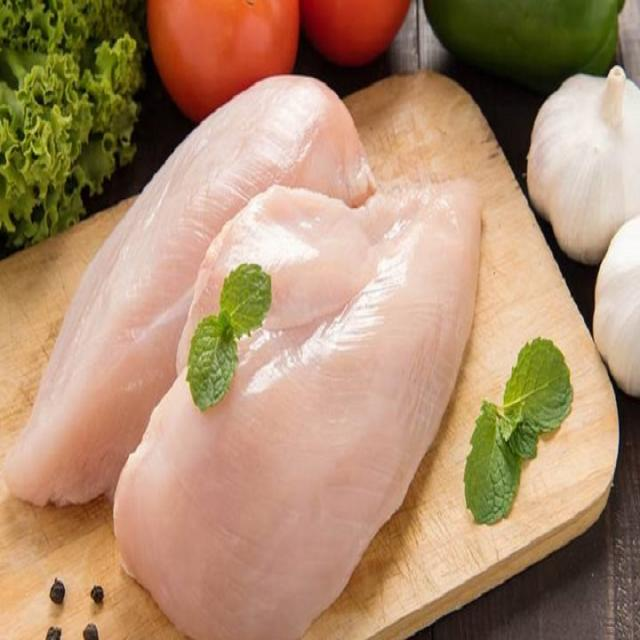chicken: (18, 78, 483, 634), (115, 196, 482, 634), (14, 80, 377, 518)
